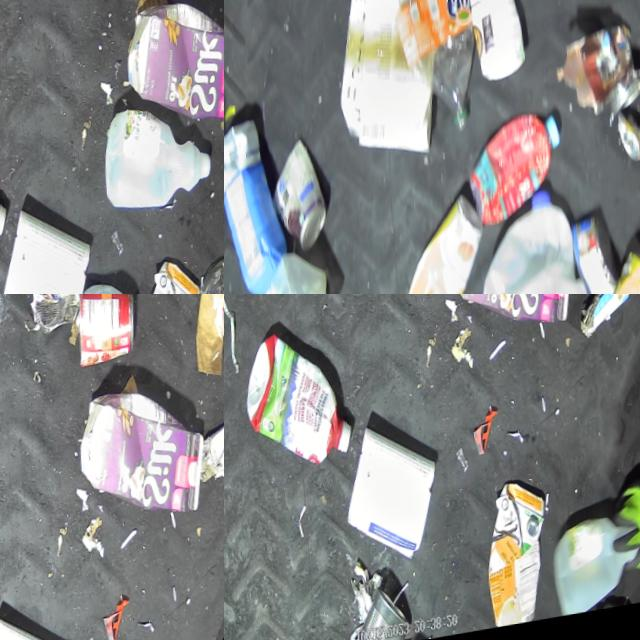can: (268, 133, 333, 259), (73, 294, 138, 376), (348, 576, 424, 640), (570, 217, 625, 294), (25, 294, 84, 344), (608, 71, 640, 124), (602, 251, 640, 294), (616, 113, 640, 174), (199, 294, 224, 351)
milk_jug: (471, 189, 598, 294), (550, 512, 640, 627)
non_white_jug: (76, 382, 210, 537)
plastic_bottle: (372, 0, 485, 150)
